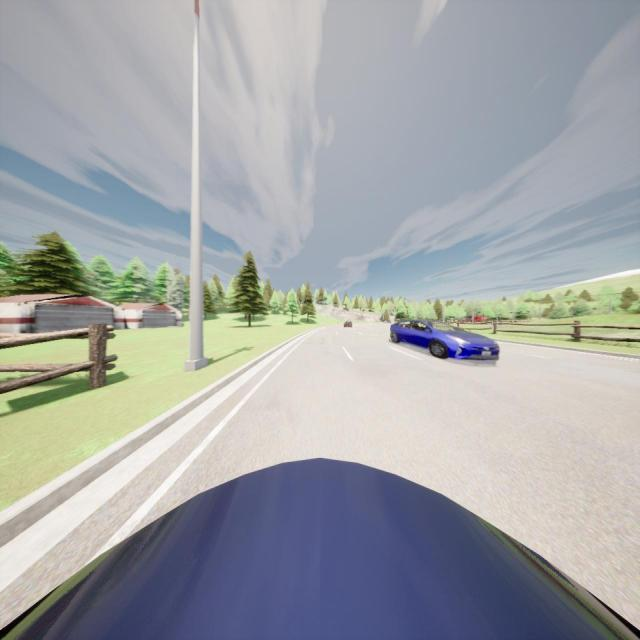Vehicle: (0, 456, 640, 640), (390, 320, 500, 360), (343, 320, 352, 328)
